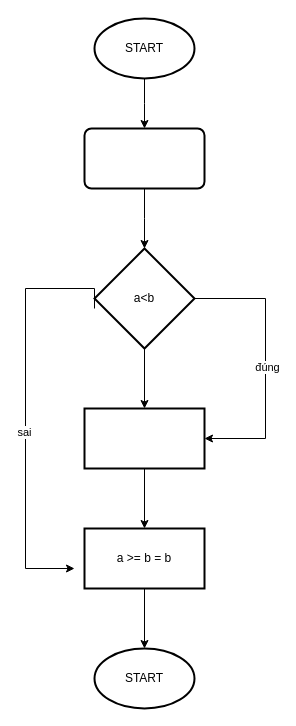
This 296x726 diagram has some shape labels left out. The shapes that lost their labels are listed below. From the top down, each one's centre as x and y in pixels, then its label:
At pixel 144 158: "num1,num2".
At pixel 144 438: "a < b = a".
